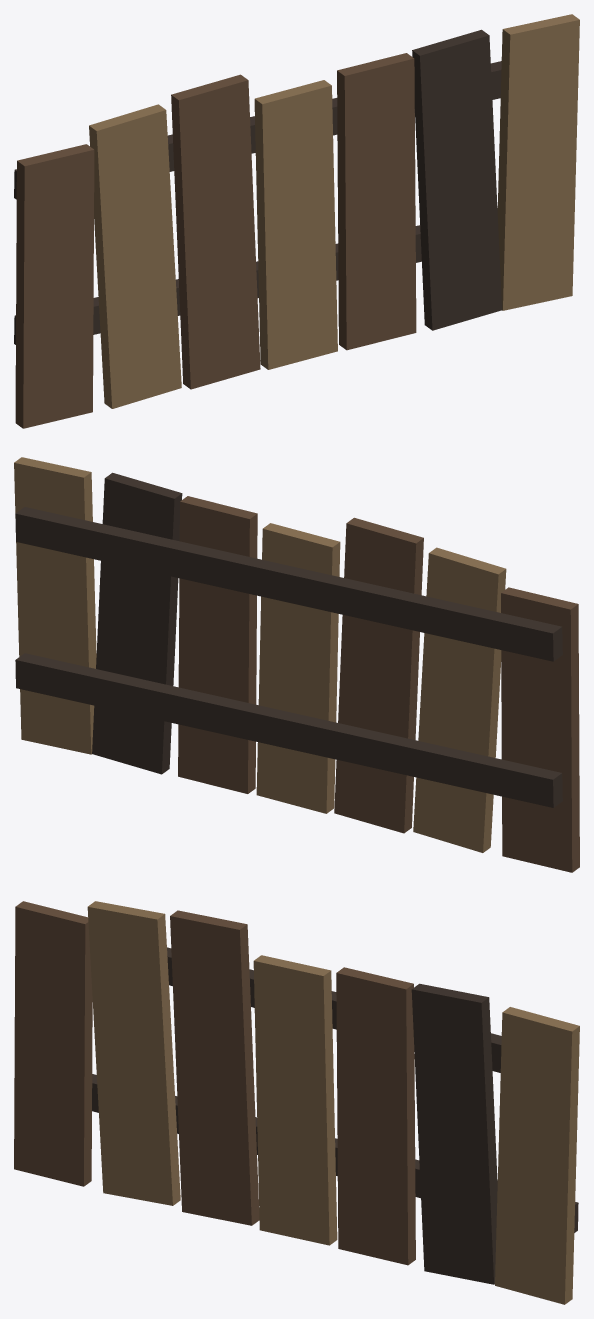
The model's file is fence.glb.
The picture shows the model from 3 angles, top to bottom: view 1: azimuth 30°, elevation 25°; view 2: azimuth 150°, elevation 25°; view 3: azimuth 330°, elevation 25°; orthographic projection.
Visible parts, largest first — view 1: mismatched fence board.002, mismatched fence board.001, mismatched fence board.005, mismatched fence board.004, mismatched fence board.006, mismatched fence board.003, mismatched fence board, fence rail.001, fence rail; view 2: fence rail, fence rail.001, mismatched fence board.002, mismatched fence board.001, mismatched fence board, mismatched fence board.005, mismatched fence board.004, mismatched fence board.006, mismatched fence board.003; view 3: mismatched fence board.002, mismatched fence board.001, mismatched fence board.005, mismatched fence board.004, mismatched fence board.006, mismatched fence board.003, mismatched fence board, fence rail.001, fence rail.
Boxes of the visible parts, x1,y1,x2,y2 form: mismatched fence board.002: (171,74,260,389); mismatched fence board.001: (89,104,181,408); mismatched fence board.005: (412,29,501,330); mismatched fence board.004: (337,53,416,350); mismatched fence board.006: (497,14,579,310); mismatched fence board.003: (254,80,337,369); mismatched fence board: (15,144,94,428); fence rail.001: (14,61,501,199); fence rail: (14,208,497,344); fence rail: (15,653,562,807); fence rail.001: (15,507,562,661); mismatched fence board.002: (334,517,423,833); mismatched fence board.001: (413,547,506,852); mismatched fence board: (501,587,579,872); mismatched fence board.005: (92,472,182,774); mismatched fence board.004: (178,496,257,793); mismatched fence board.006: (14,457,96,754); mismatched fence board.003: (256,523,340,813); mismatched fence board.002: (170,910,259,1225); mismatched fence board.001: (87,901,180,1205); mismatched fence board.005: (411,983,497,1284); mismatched fence board.004: (336,967,415,1265); mismatched fence board.006: (495,1007,579,1304); mismatched fence board.003: (253,955,337,1245); mismatched fence board: (14,901,92,1186); fence rail.001: (167,947,501,1072); fence rail: (92,1074,578,1232).
Bounding box in the file's own units: 1.04 × 0.5271 × 0.0575.
